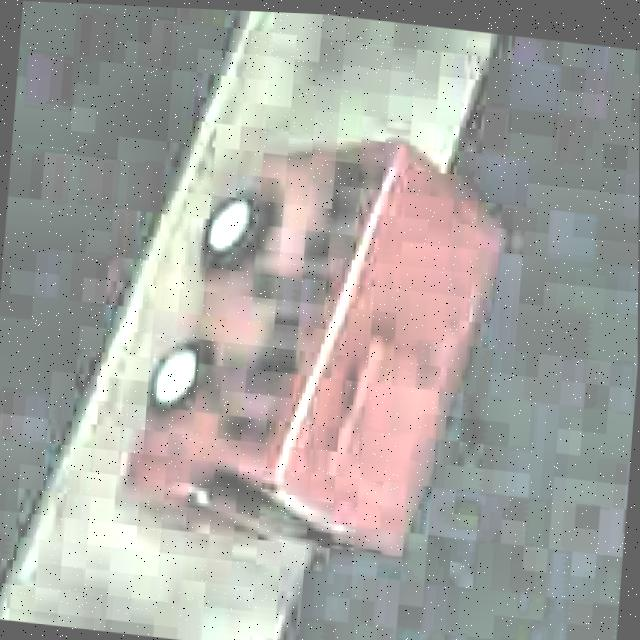bus: (108, 107, 512, 572)
